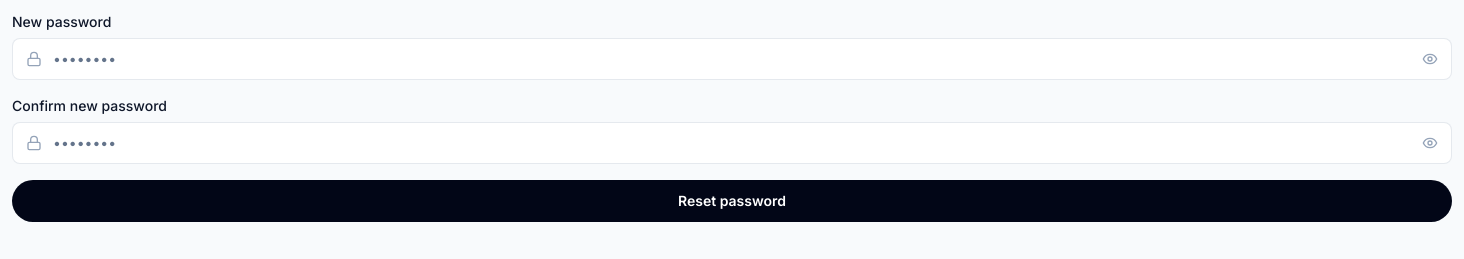
Test case: password reset flow › reset password validates password confirmation
Type "NewPass456!" into the password field labelled "New password" at (732, 59), box [12, 38, 1452, 80]
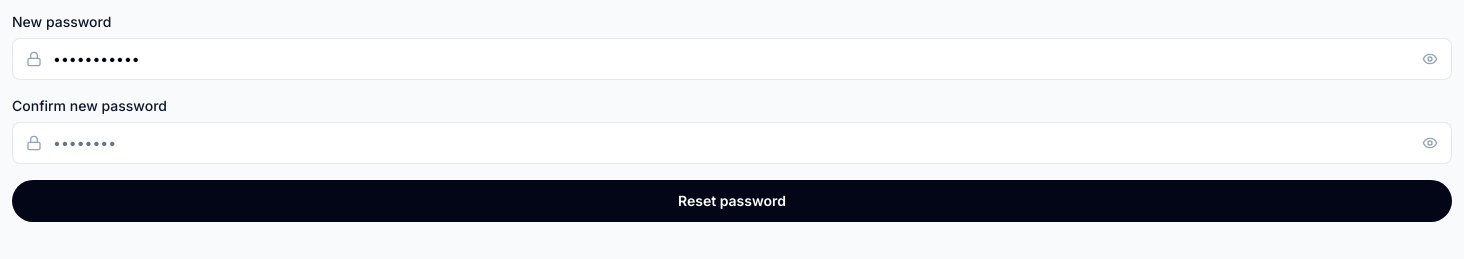
Type "OtherPass456!" into the password field labelled "Confirm new password" at (732, 143), box [12, 122, 1452, 164]
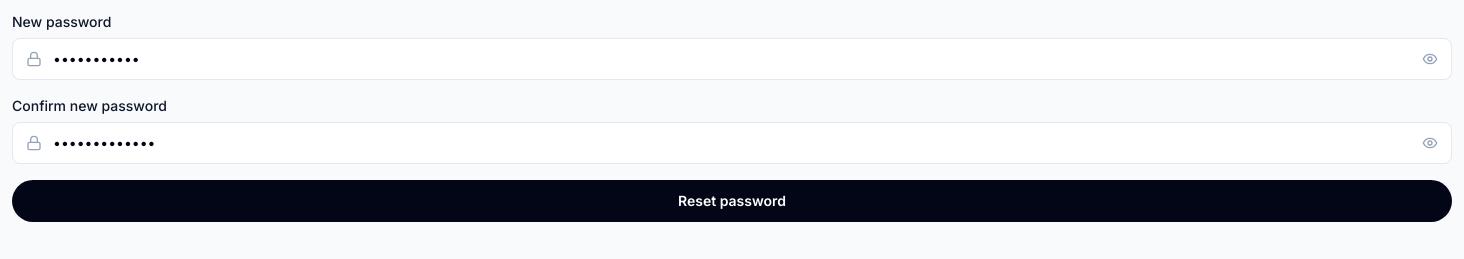
Submit the form "Reset password"
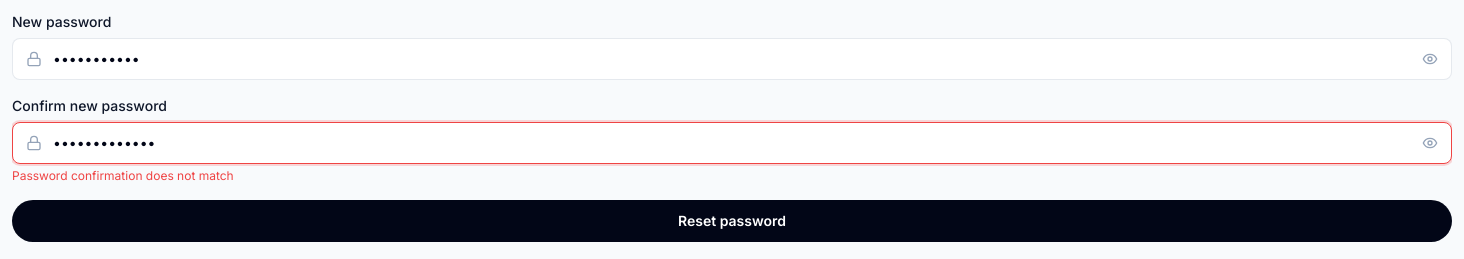
Check: the text "Password confirmation does not match" is shown, box [12, 168, 234, 183]
